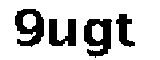9: (9, 6, 47, 50)
g: (76, 13, 112, 60)
t: (114, 12, 137, 50)
u: (48, 17, 78, 52)
